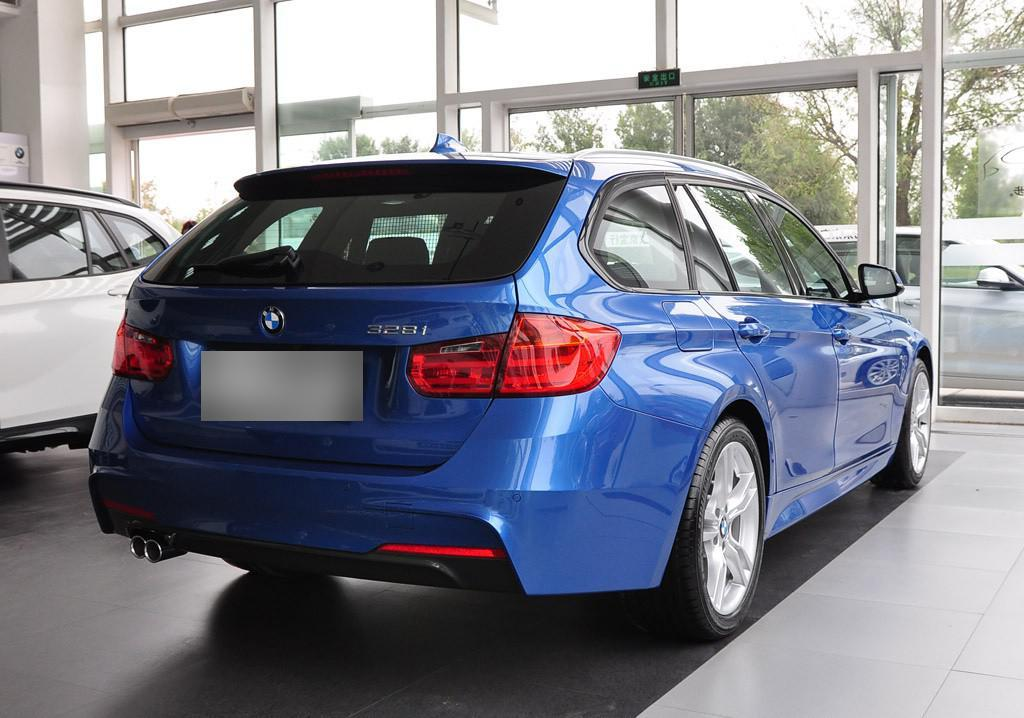Wagon: (88, 131, 936, 642)
